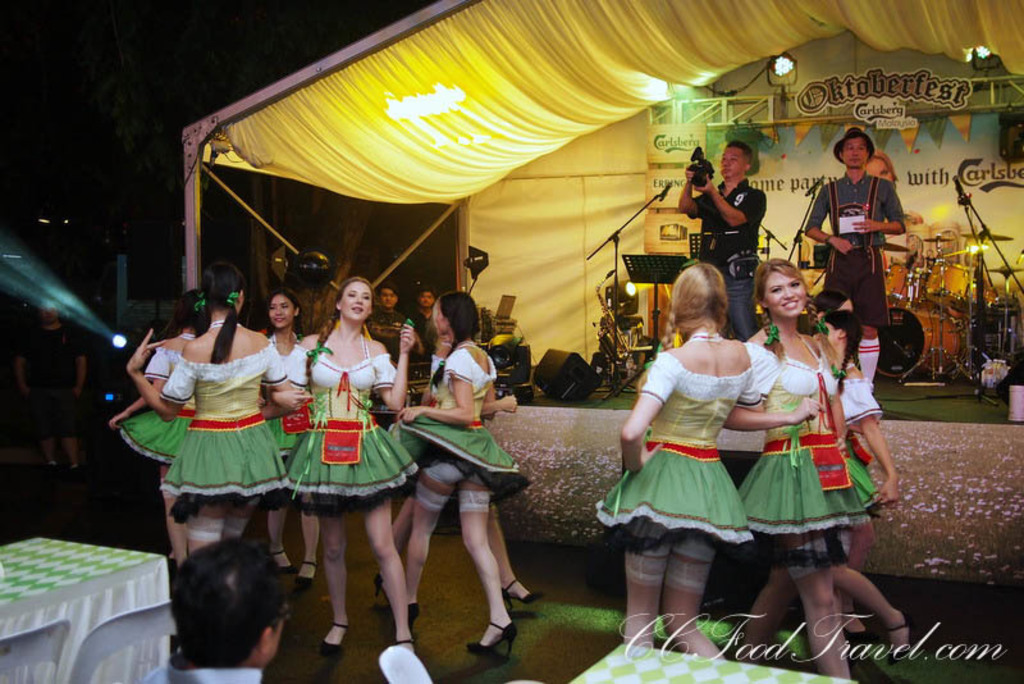Person: (591, 128, 922, 684), (8, 297, 94, 491)
